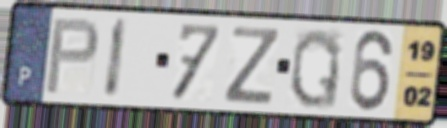6: (348, 28, 394, 114)
7: (170, 21, 222, 103)
I: (101, 15, 130, 102)
P: (42, 17, 102, 97)
Q: (287, 25, 344, 111)
Z: (221, 23, 283, 107)
